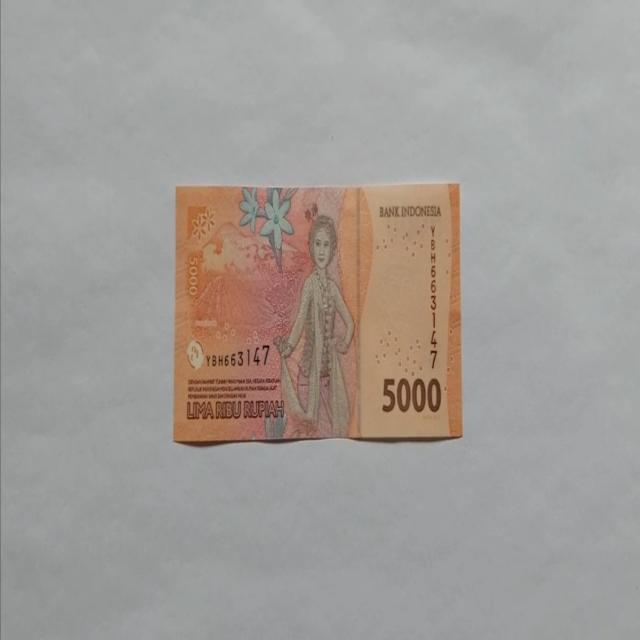lima ribu rupiah: (172, 182, 462, 444), (272, 213, 356, 439)
